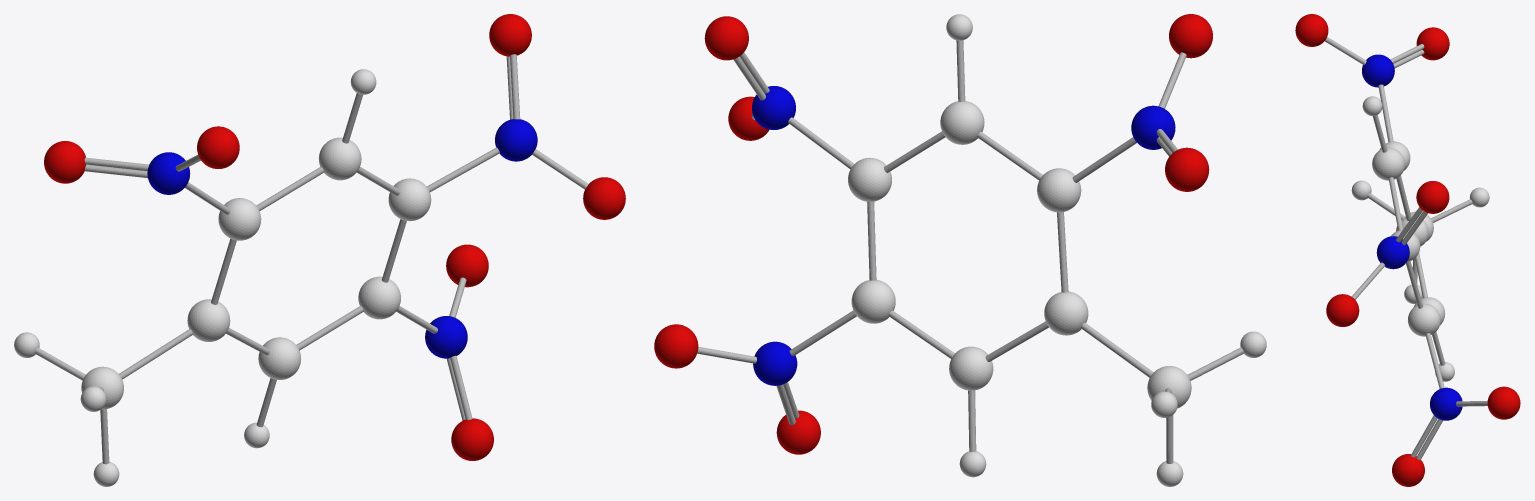
The picture shows the model from 3 angles, left to right: view 1: azimuth 30°, elevation 25°; view 2: azimuth 150°, elevation 25°; view 3: azimuth 270°, elevation 25°; orthographic projection. The views are drawn at different scales.
Visible parts, largest first — view 1: world; view 2: world; view 3: world.
Part boxes in pixels (x1,y1,x2,y2): world: (14, 14, 625, 486); world: (654, 14, 1266, 486); world: (1295, 14, 1520, 486).
Size of the model in its own units: 7.13 by 5.85 by 3.4.
